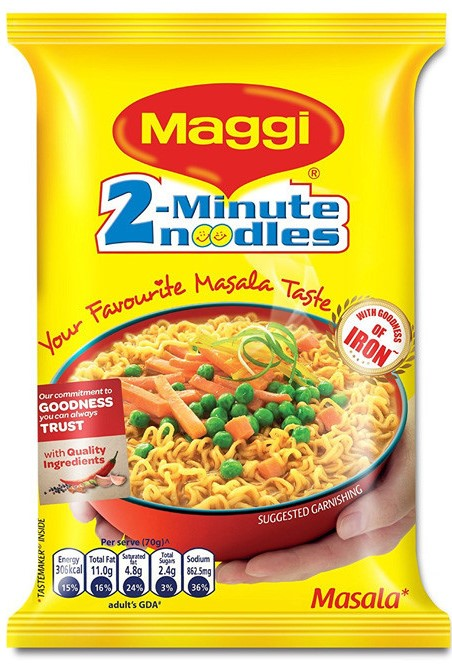maggi: (26, 19, 424, 643)
